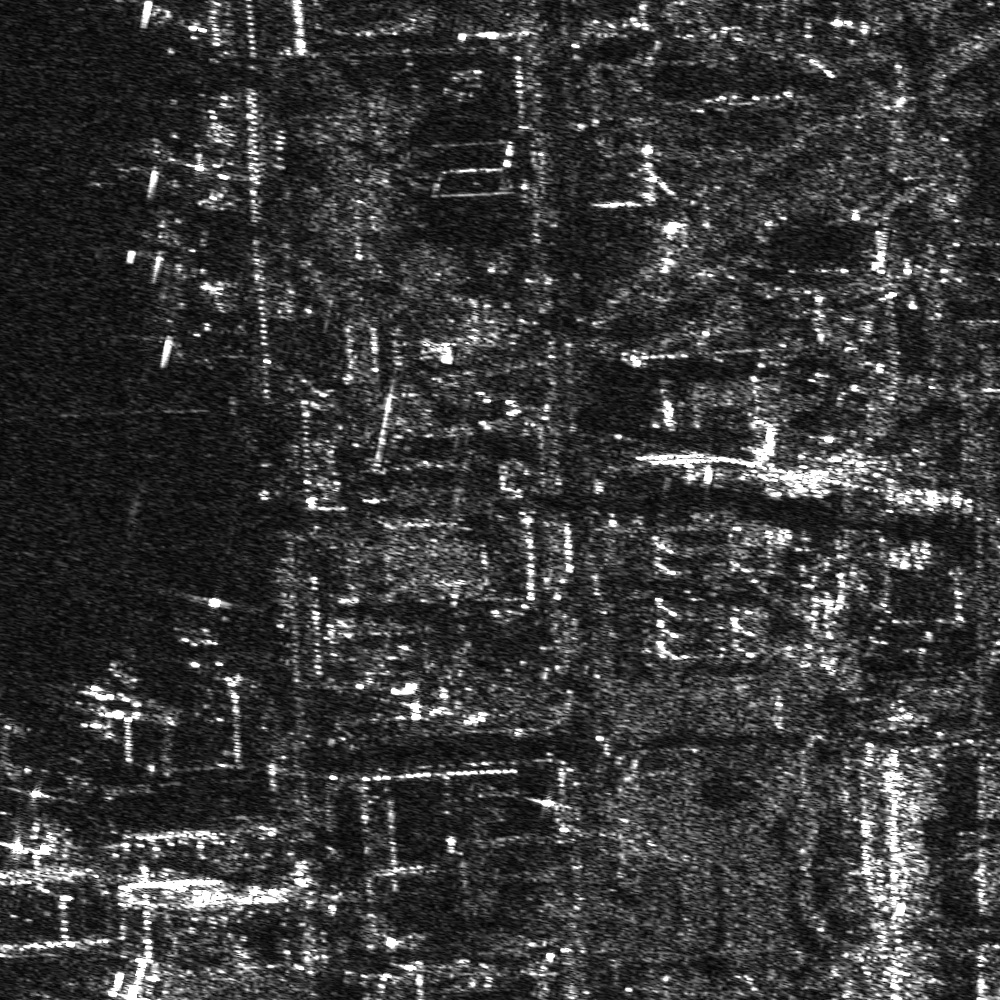A220: (165, 589, 256, 685)
